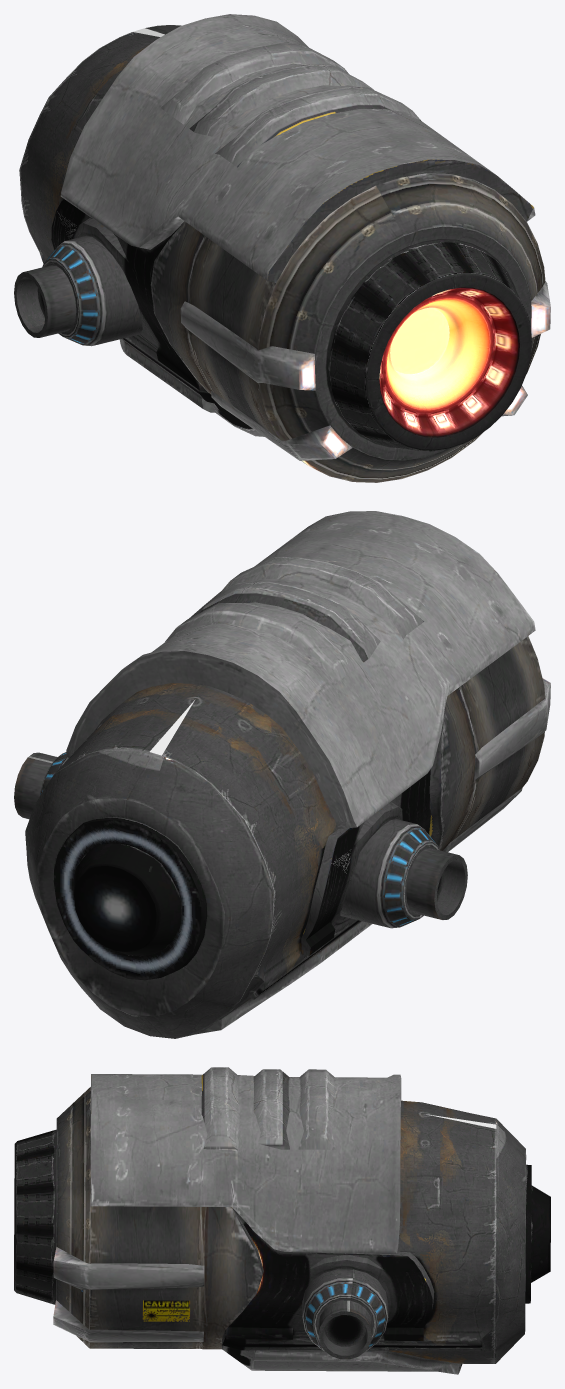
Rendered from astro_core.glb.
3 views of the same model, one above another, from view 1: azimuth 30°, elevation 25°; view 2: azimuth 150°, elevation 25°; view 3: azimuth 270°, elevation 25° (orthographic). The views are drawn at different scales.
Visible parts, largest first — view 1: Object_2; view 2: Object_2; view 3: Object_2.
Boxes of the visible parts, left/top/right/bottom form: Object_2: left=14, top=14, right=550, bottom=482; Object_2: left=14, top=511, right=550, bottom=1038; Object_2: left=14, top=1067, right=550, bottom=1374.
Size of the model in its own units: 0.9744 by 0.7879 by 1.35.
Materials: 2 (1 with a texture image).
